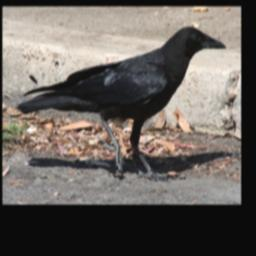Crow: (17, 23, 228, 179)
